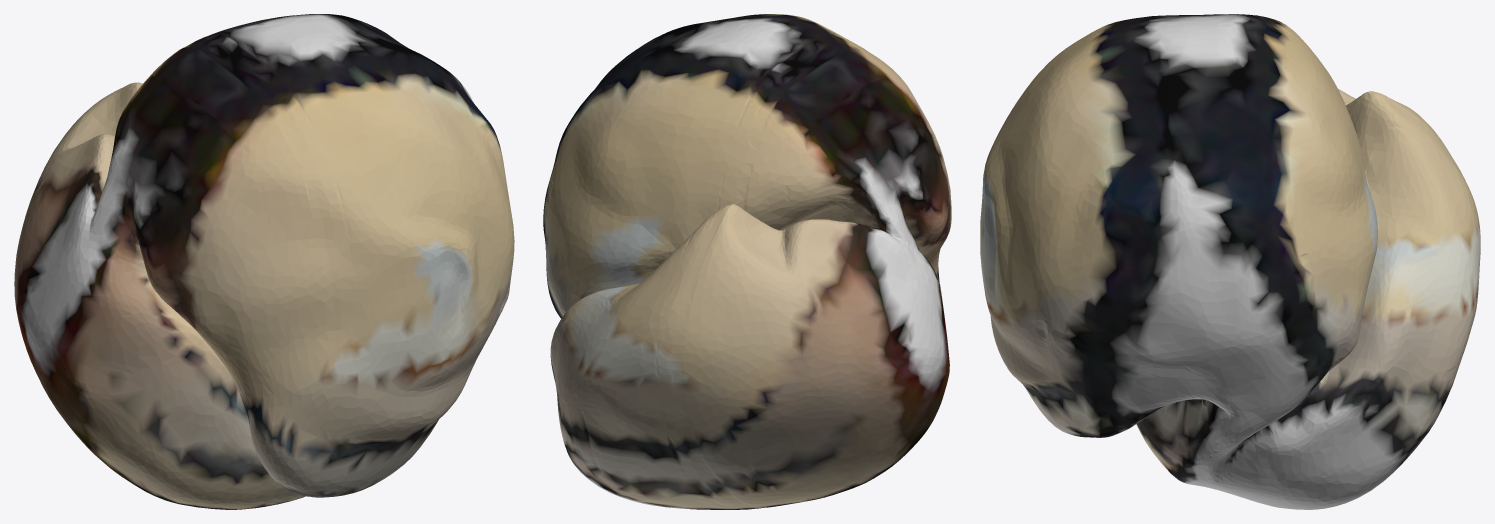
Rendered from amber_coin.glb.
3 renders of one model, left to right at view 1: azimuth 30°, elevation 25°; view 2: azimuth 150°, elevation 25°; view 3: azimuth 270°, elevation 25°, orthographic. The views are drawn at different scales.
Parts seen in each view (by area): view 1: geometry_0; view 2: geometry_0; view 3: geometry_0.
Boxes of the visible parts, x1,y1,x2,y2 form: geometry_0: (14, 14, 514, 509); geometry_0: (543, 14, 951, 509); geometry_0: (980, 14, 1480, 509).
Size of the model in its own units: 0.4688 by 0.5131 by 0.5003.
